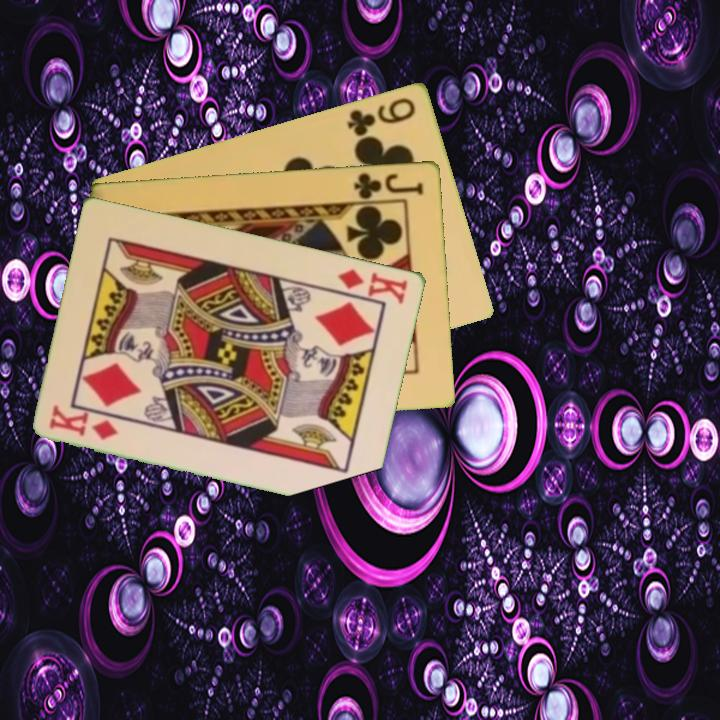9c: (344, 93, 419, 139)
Jc: (350, 168, 427, 202)
Kd: (335, 265, 411, 307), (46, 402, 122, 443)
